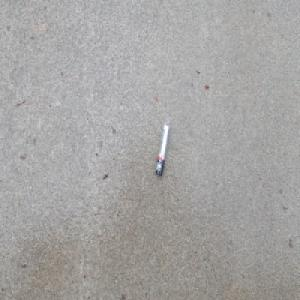Battery: (155, 123, 169, 177)
